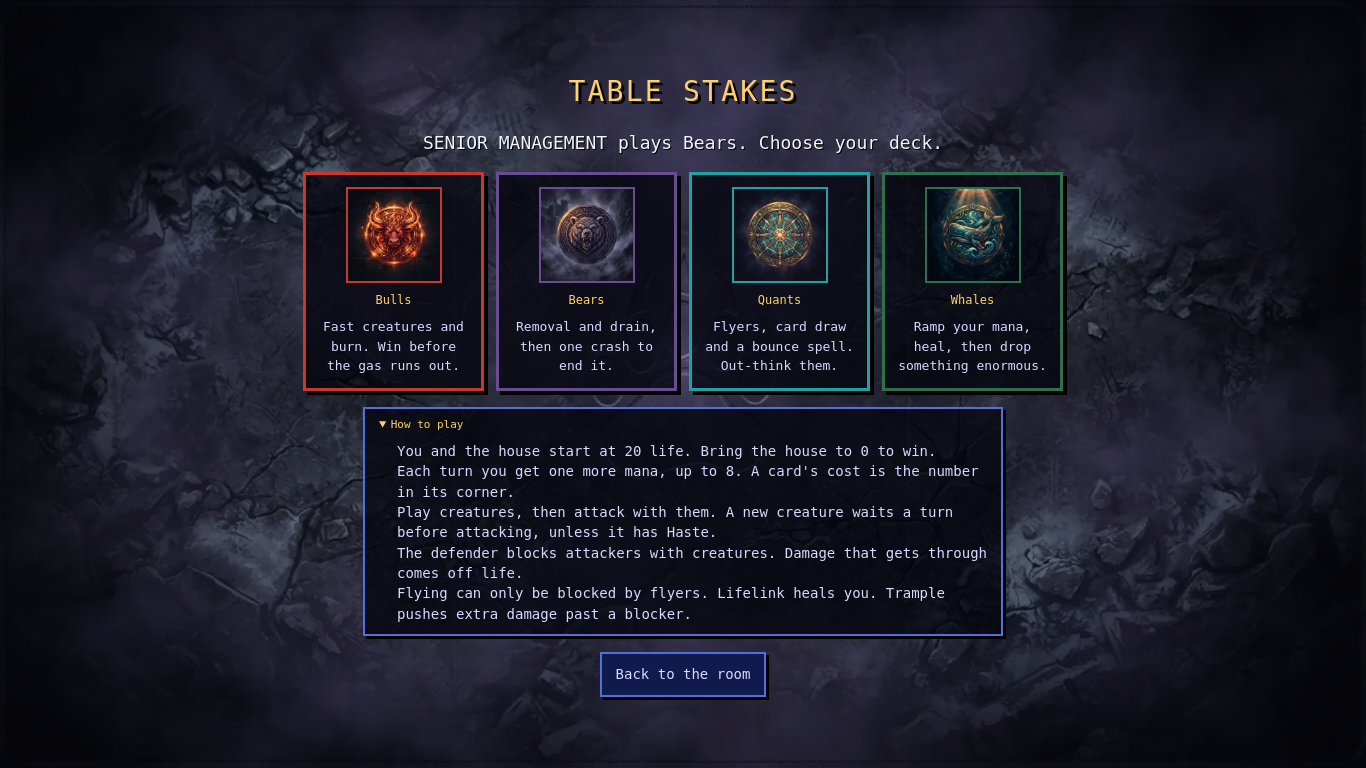
Scenario: DuelGame › plays an affordable creature from hand onto the board
Click the button with aria-label "Play Bulls": (394, 281) [303,172,484,391]
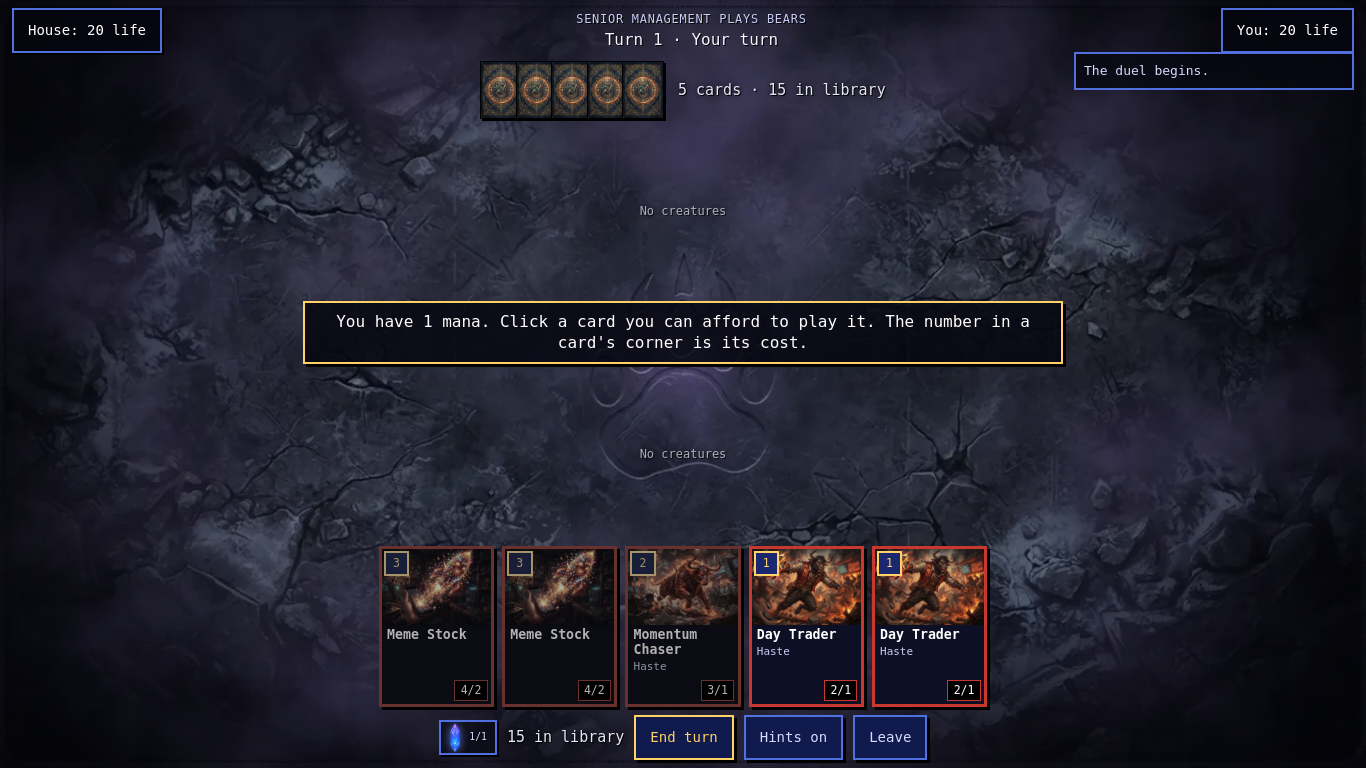
Click the button with aria-label "Day Trader, 1 mana": (806, 626) [749,546,864,707]
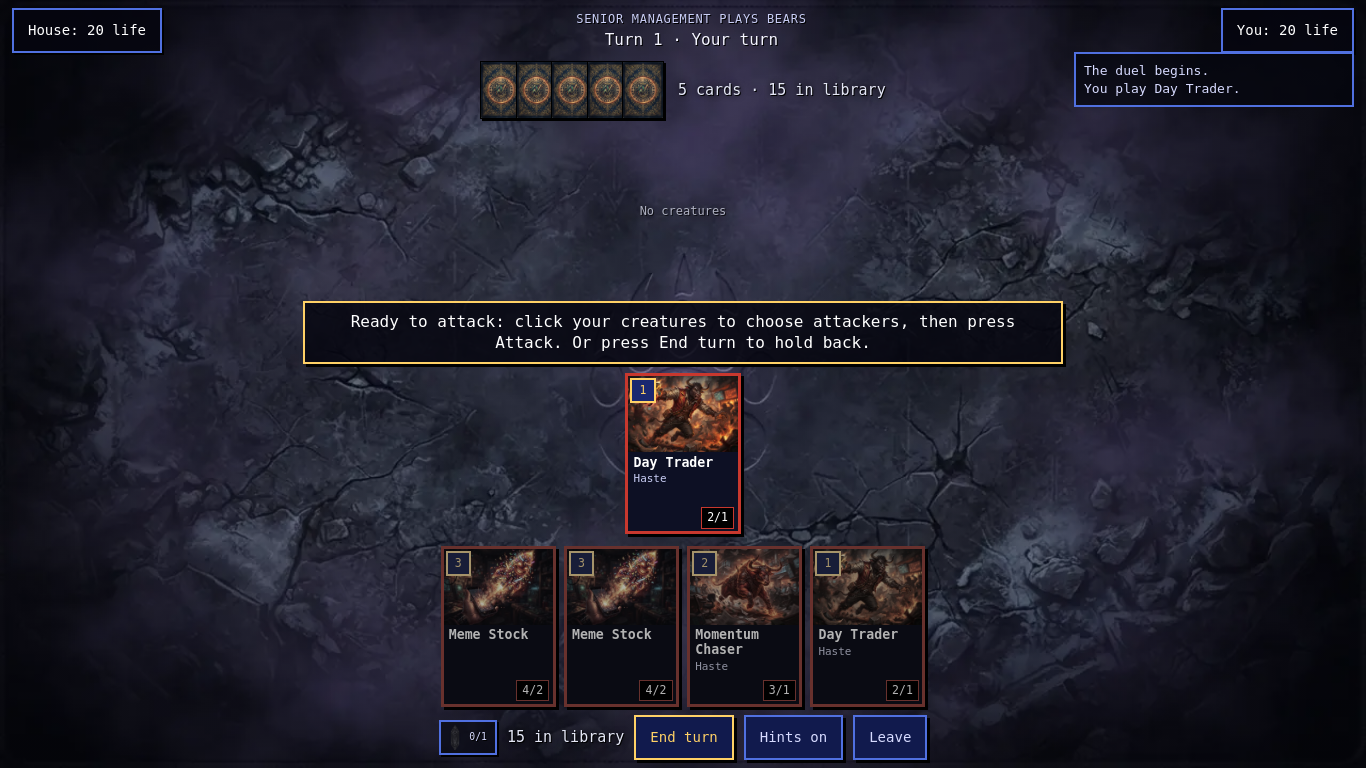
Now the picture named "Mana 0 of 1" is shown, box [439,720,497,755]
